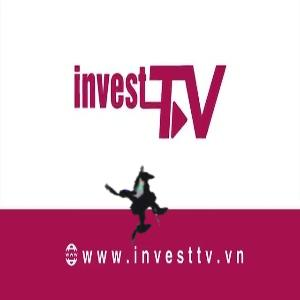drone: (80, 136, 217, 273)
